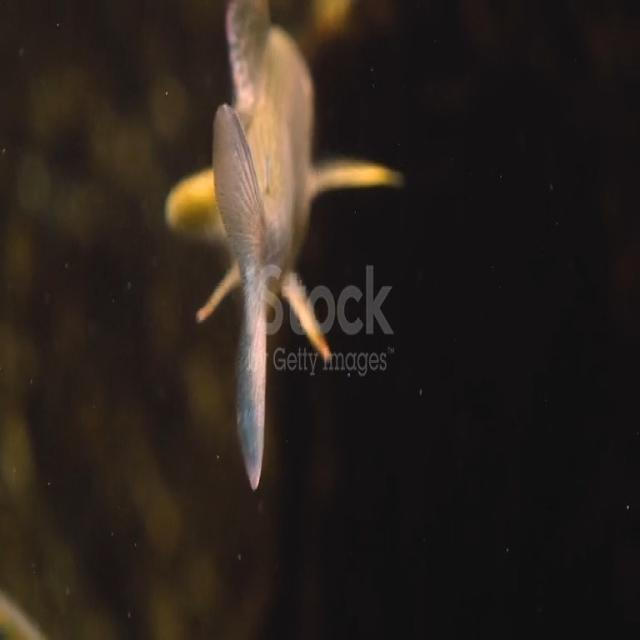fish: (167, 0, 409, 492)
